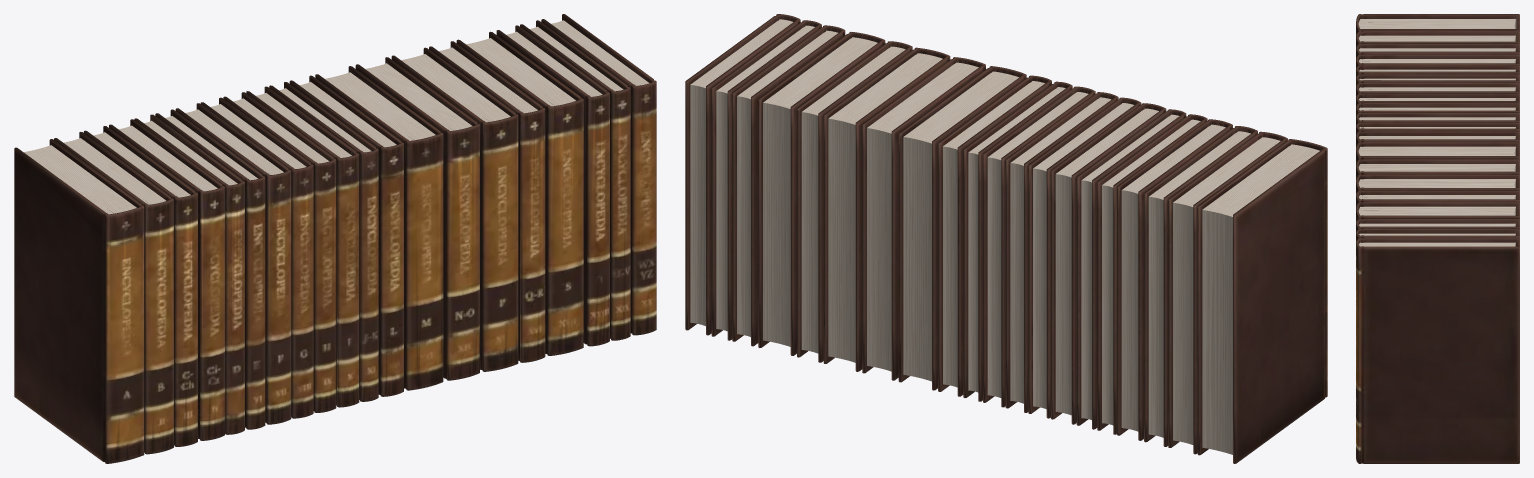
File: books-m.glb
The picture shows the model from 3 angles, left to right: view 1: azimuth 30°, elevation 25°; view 2: azimuth 150°, elevation 25°; view 3: azimuth 270°, elevation 25°; orthographic projection. The views are drawn at different scales.
Parts seen in each view (by area): view 1: book_encyclopedia_set_01_book01, book_encyclopedia_set_01_book13, book_encyclopedia_set_01_book15, book_encyclopedia_set_01_book17, book_encyclopedia_set_01_book14, book_encyclopedia_set_01_book02, book_encyclopedia_set_01_book16, book_encyclopedia_set_01_book04, book_encyclopedia_set_01_book18, book_encyclopedia_set_01_book20, book_encyclopedia_set_01_book07, book_encyclopedia_set_01_book12 (+8 smaller); view 2: book_encyclopedia_set_01_book01, book_encyclopedia_set_01_book13, book_encyclopedia_set_01_book15, book_encyclopedia_set_01_book17, book_encyclopedia_set_01_book14, book_encyclopedia_set_01_book02, book_encyclopedia_set_01_book04, book_encyclopedia_set_01_book16, book_encyclopedia_set_01_book18, book_encyclopedia_set_01_book20, book_encyclopedia_set_01_book07, book_encyclopedia_set_01_book12 (+8 smaller); view 3: book_encyclopedia_set_01_book20, book_encyclopedia_set_01_book13, book_encyclopedia_set_01_book17, book_encyclopedia_set_01_book01, book_encyclopedia_set_01_book15, book_encyclopedia_set_01_book14, book_encyclopedia_set_01_book02, book_encyclopedia_set_01_book16, book_encyclopedia_set_01_book03, book_encyclopedia_set_01_book12, book_encyclopedia_set_01_book07, book_encyclopedia_set_01_book04 (+8 smaller).
Part boxes in pixels (x1,y1,x2,y2): book_encyclopedia_set_01_book01: (14, 139, 144, 463); book_encyclopedia_set_01_book13: (315, 66, 443, 390); book_encyclopedia_set_01_book15: (391, 47, 518, 371); book_encyclopedia_set_01_book17: (456, 31, 583, 355); book_encyclopedia_set_01_book14: (355, 57, 479, 380); book_encyclopedia_set_01_book02: (54, 132, 173, 454); book_encyclopedia_set_01_book16: (429, 41, 545, 362); book_encyclopedia_set_01_book04: (109, 119, 224, 440); book_encyclopedia_set_01_book18: (496, 25, 609, 346); book_encyclopedia_set_01_book20: (541, 14, 656, 335); book_encyclopedia_set_01_book07: (175, 103, 291, 424); book_encyclopedia_set_01_book12: (289, 75, 403, 396); book_encyclopedia_set_01_book01: (1197, 139, 1327, 463); book_encyclopedia_set_01_book13: (898, 66, 1026, 390); book_encyclopedia_set_01_book15: (823, 47, 950, 371); book_encyclopedia_set_01_book17: (758, 32, 885, 355); book_encyclopedia_set_01_book14: (862, 57, 985, 380); book_encyclopedia_set_01_book02: (1168, 131, 1287, 454); book_encyclopedia_set_01_book04: (1117, 119, 1232, 440); book_encyclopedia_set_01_book16: (797, 41, 912, 362); book_encyclopedia_set_01_book18: (732, 25, 845, 346); book_encyclopedia_set_01_book20: (685, 14, 800, 335); book_encyclopedia_set_01_book07: (1051, 103, 1166, 424); book_encyclopedia_set_01_book12: (938, 75, 1051, 396); book_encyclopedia_set_01_book20: (1356, 238, 1519, 463); book_encyclopedia_set_01_book13: (1356, 142, 1519, 165); book_encyclopedia_set_01_book17: (1356, 202, 1519, 222); book_encyclopedia_set_01_book01: (1356, 14, 1519, 35); book_encyclopedia_set_01_book15: (1356, 174, 1519, 194); book_encyclopedia_set_01_book14: (1356, 159, 1519, 181); book_encyclopedia_set_01_book02: (1356, 30, 1519, 47); book_encyclopedia_set_01_book16: (1356, 190, 1519, 208); book_encyclopedia_set_01_book03: (1356, 43, 1519, 58); book_encyclopedia_set_01_book12: (1356, 131, 1519, 149); book_encyclopedia_set_01_book07: (1356, 82, 1519, 96); book_encyclopedia_set_01_book04: (1356, 54, 1519, 68).
Size of the model in its own units: 0.5513 by 0.2374 by 0.1631.
2 materials, 2 textured.
